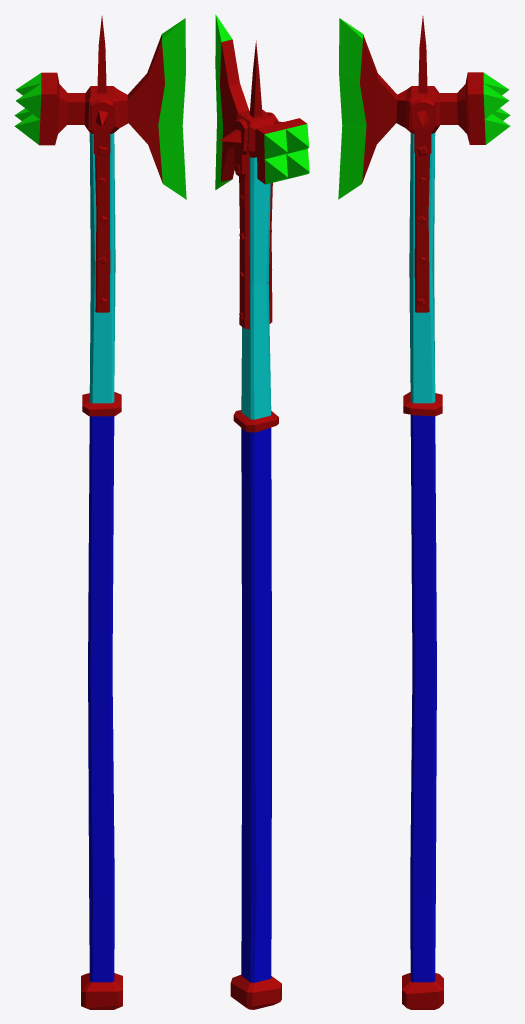
The model's file is Spear_Common_Poleaxe.fbx.
The picture shows the model from 3 angles, left to right: view 1: azimuth 90°, elevation 25°; view 2: azimuth 210°, elevation 25°; view 3: azimuth 270°, elevation 25°; orthographic projection. The views are drawn at different scales.
Visible parts, largest first — view 1: SM_Wep_Axe_11; view 2: SM_Wep_Axe_11; view 3: SM_Wep_Axe_11.
Boxes of the visible parts, bbox=[...] form: SM_Wep_Axe_11: bbox=[14, 15, 186, 1009]; SM_Wep_Axe_11: bbox=[215, 14, 309, 1009]; SM_Wep_Axe_11: bbox=[338, 15, 510, 1009].
Bounding box in the file's own units: 13.54 × 168 × 26.46.
